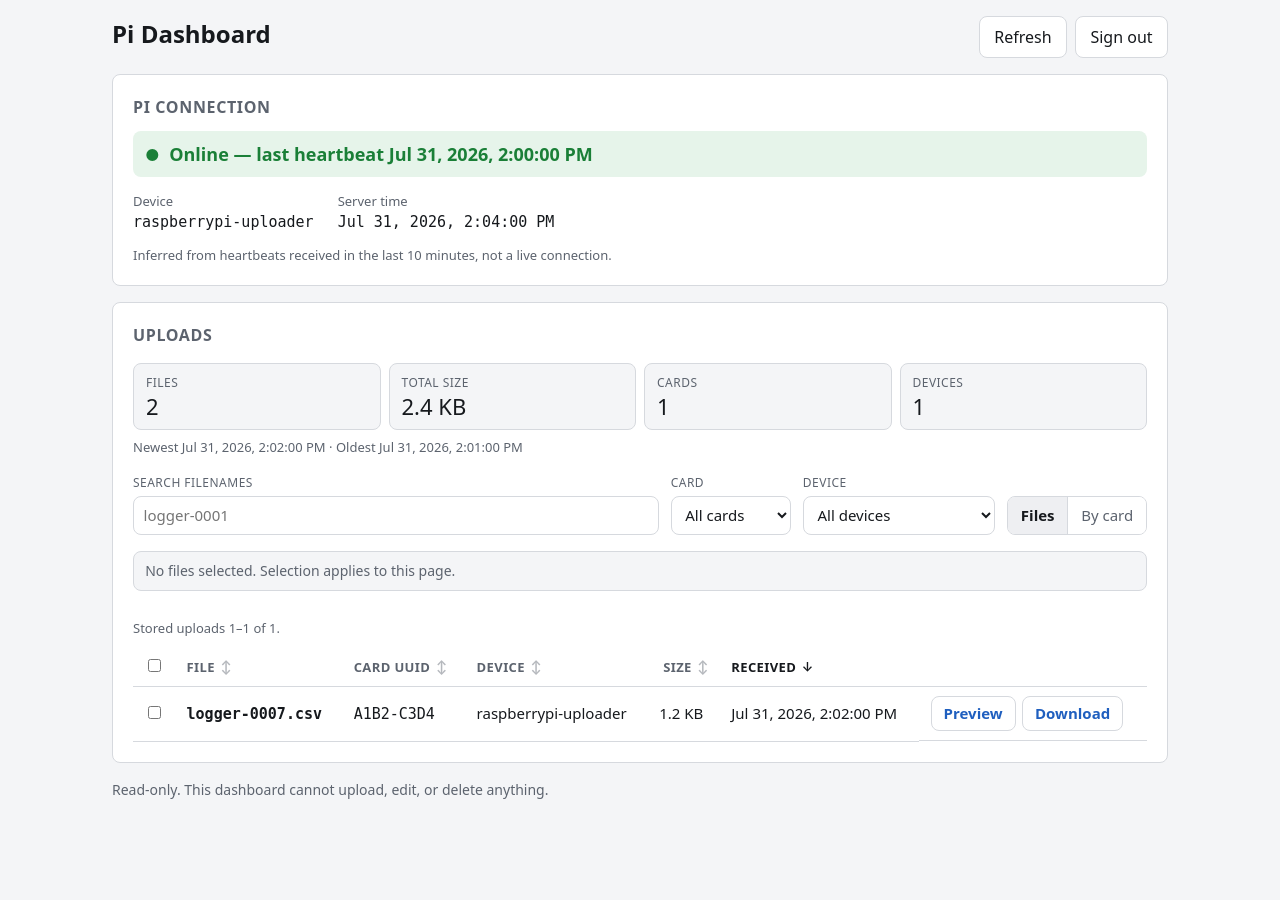
it: grouped by card › summarises each card and loads its files only when expanded
This screenshot has width=1280, height=900.
Click the button "By card" at [1107, 515], box [1067, 497, 1146, 534]
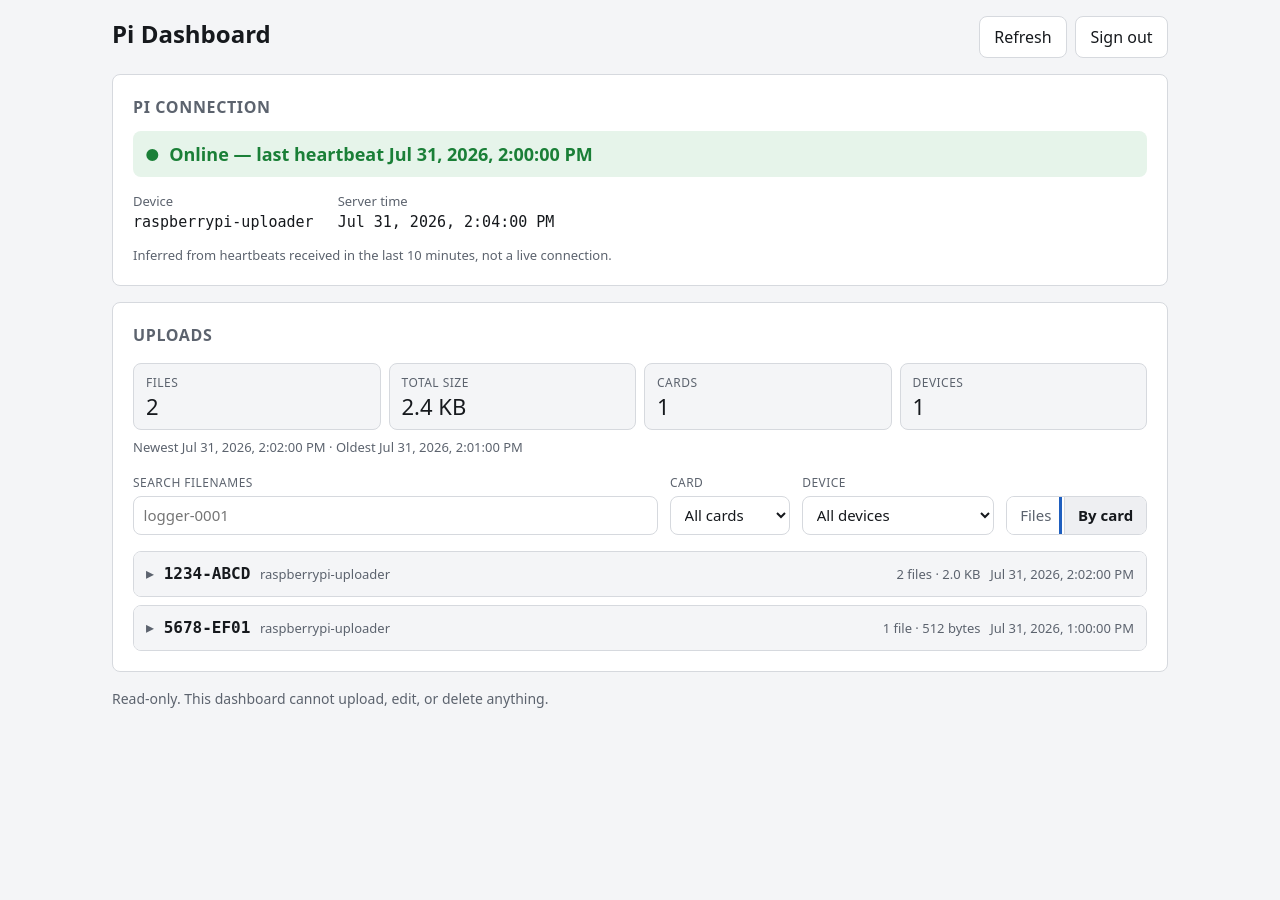
Expected: the button "1234-ABCD" shows "2 files"
Expected: the button "1234-ABCD" shows "2.0 KB"
Expected: the column heading "logger-0007.csv" is gone
Click the button "1234-ABCD" at [207, 574], box [134, 552, 1146, 596]
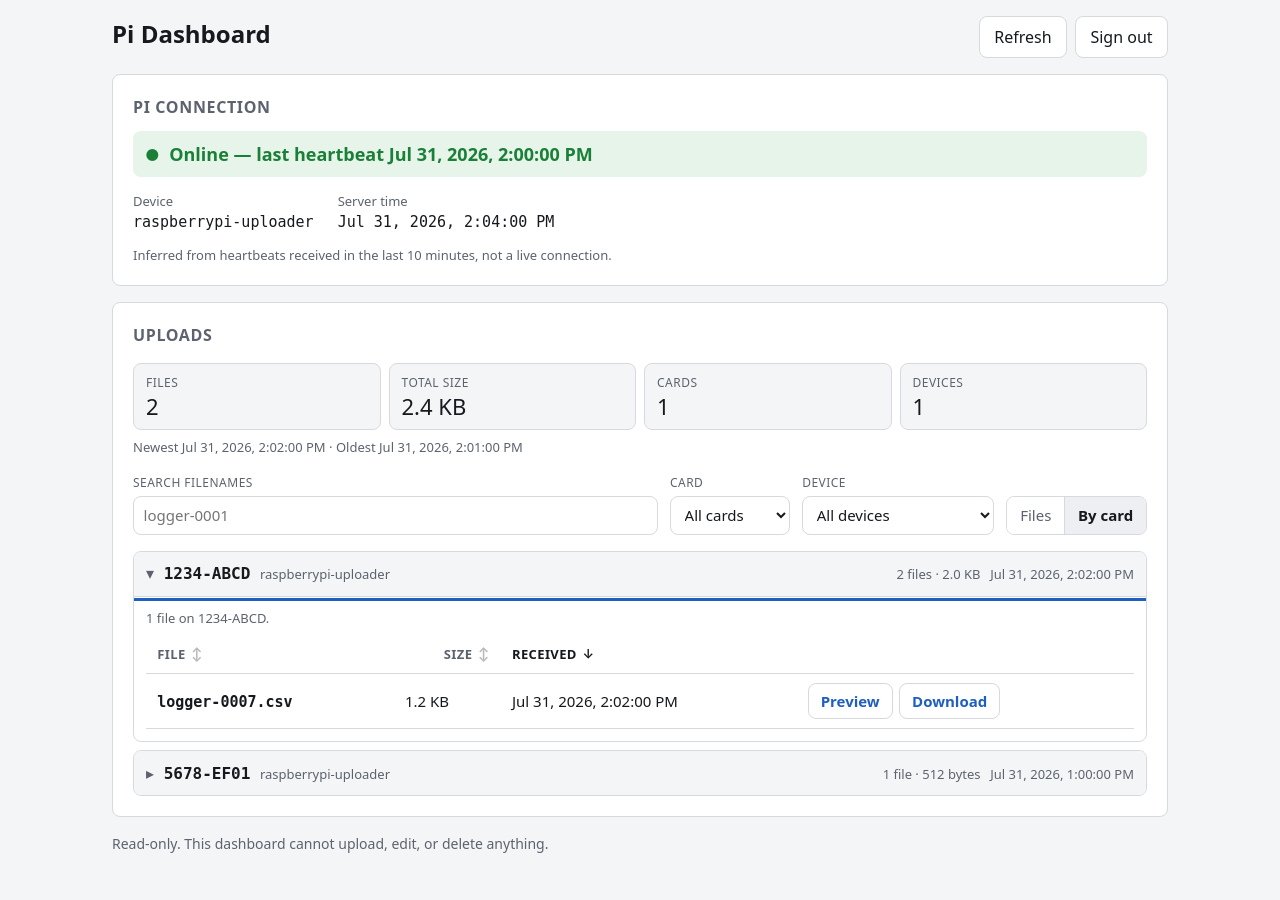
Expected: the text "1234-ABCD" is shown, [164, 562, 250, 586]
Expected: the column heading "logger-0007.csv" is shown, [146, 674, 394, 729]
Expected: the button "1234-ABCD" is expanded, [134, 552, 1146, 596]
